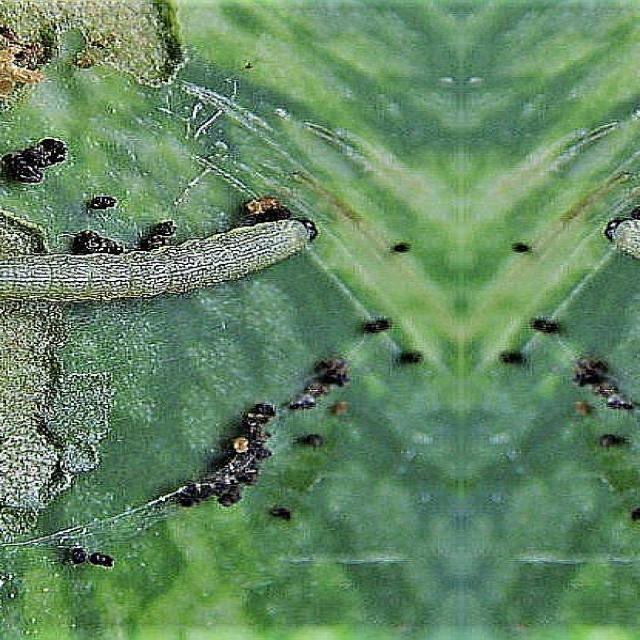Armyworm: (1, 191, 315, 347)
